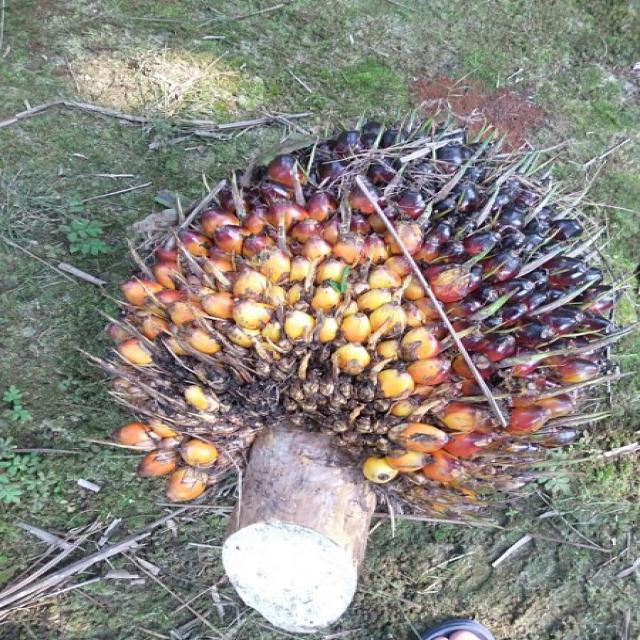fraksi 00: (78, 71, 640, 589)
